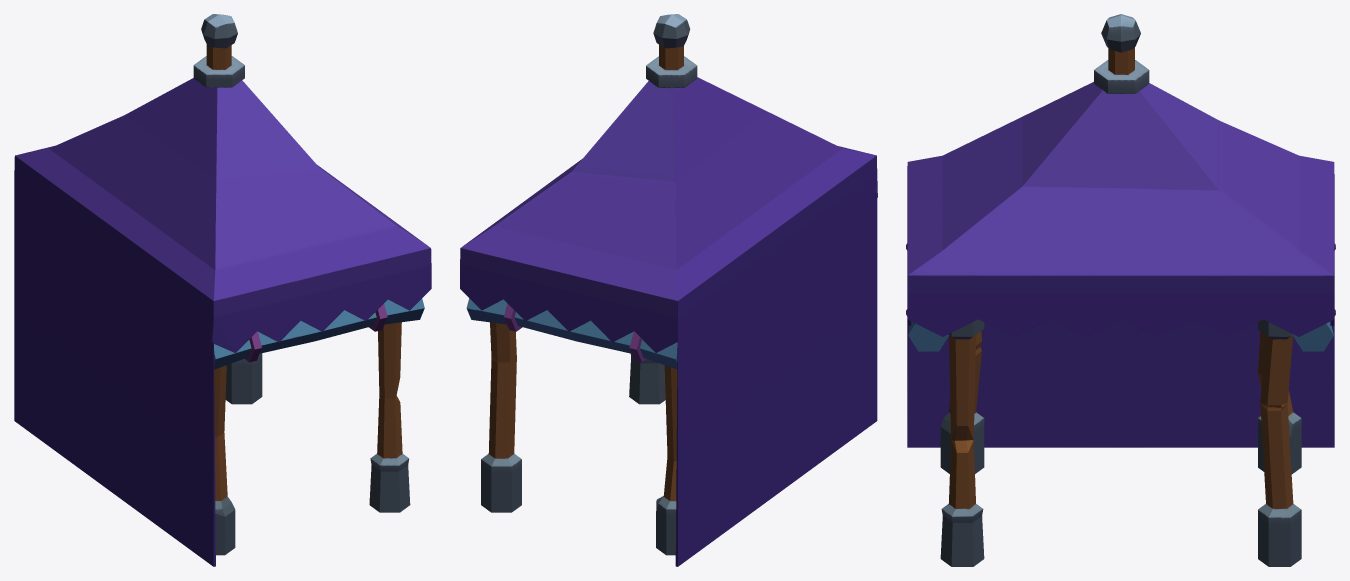
The model's file is Caseta03.fbx.
The picture shows the model from 3 angles, left to right: view 1: azimuth 30°, elevation 25°; view 2: azimuth 150°, elevation 25°; view 3: azimuth 270°, elevation 25°; orthographic projection. The views are drawn at different scales.
Visible parts, largest first — view 1: tent01; view 2: tent01; view 3: tent01.
Boxes of the visible parts, box(x1,y1,x2,y2) form: tent01: box(14, 14, 431, 566); tent01: box(460, 14, 877, 566); tent01: box(906, 14, 1335, 566).
Size of the model in its own units: 2.67 by 5.37 by 4.24.
1 material, 1 textured.
